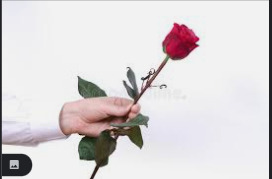RedRose: (155, 18, 199, 62)
